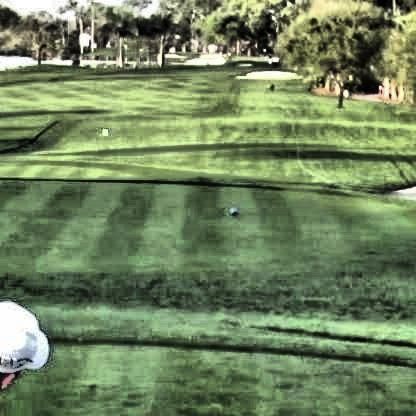golfball: (98, 126, 107, 135)
